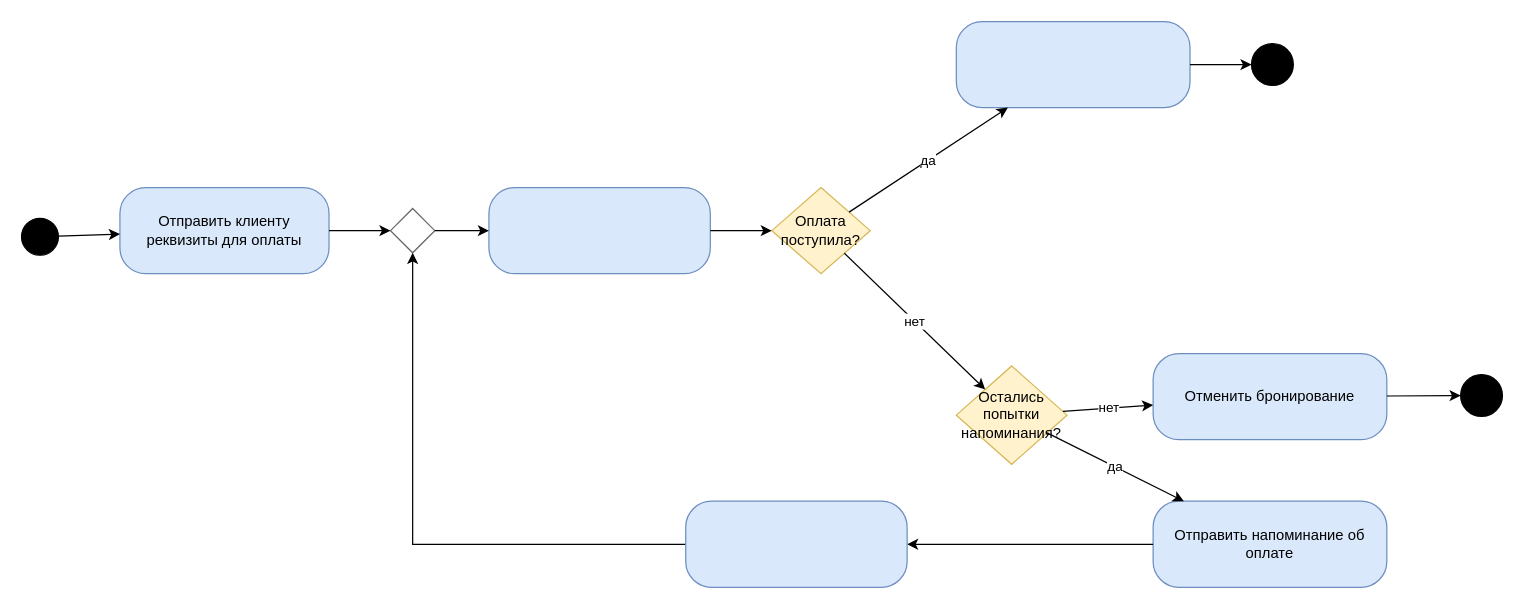
The diagram is 1524 pixels wide and 609 high, and some of its shapes have lost their labels. The shapes that lost their labels are listed below. From the top down, each one's centre as x and y in pixels, then its label:
At point 1072,64: "Подтвердить бронирование".
At point 599,230: "Ожидать поступление оплаты (таймер 15 мин)".
At point 795,543: "Зафиксировать отправку напоминания".
